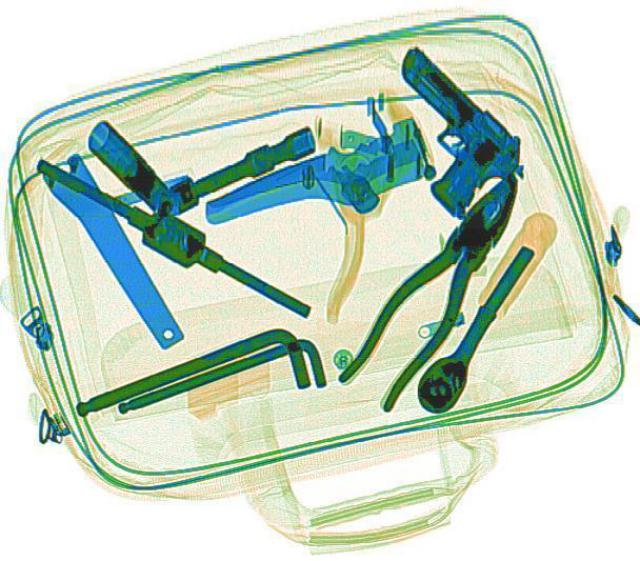Gun: (326, 43, 542, 219)
Pliers: (327, 161, 548, 412)
